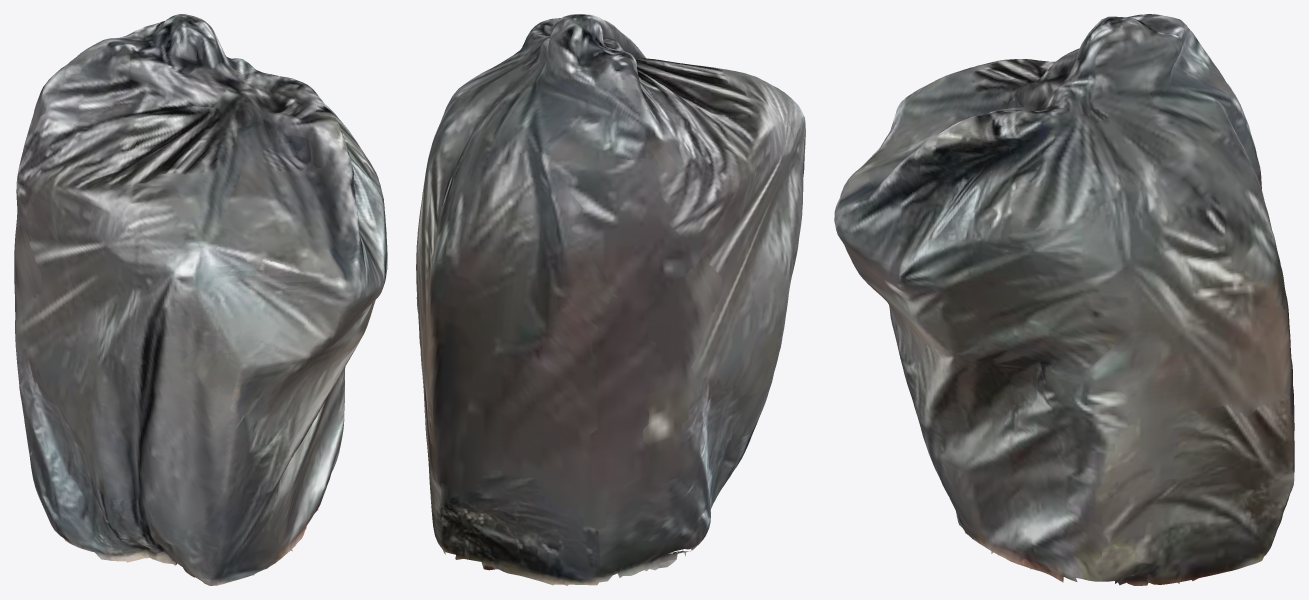
File: dump-rubble.glb
3 views of the same model, side by side, from view 1: azimuth 30°, elevation 25°; view 2: azimuth 150°, elevation 25°; view 3: azimuth 270°, elevation 25° (orthographic). The views are drawn at different scales.
Visible parts, largest first — view 1: Object_3; view 2: Object_3; view 3: Object_3.
Part boxes in pixels (box(x1,y1,x2,y2)): Object_3: box(14, 14, 387, 585); Object_3: box(416, 14, 805, 585); Object_3: box(834, 14, 1294, 585).
Size of the model in its own units: 0.5508 by 0.8804 by 0.709.
Materials: 1 (1 with a texture image).
